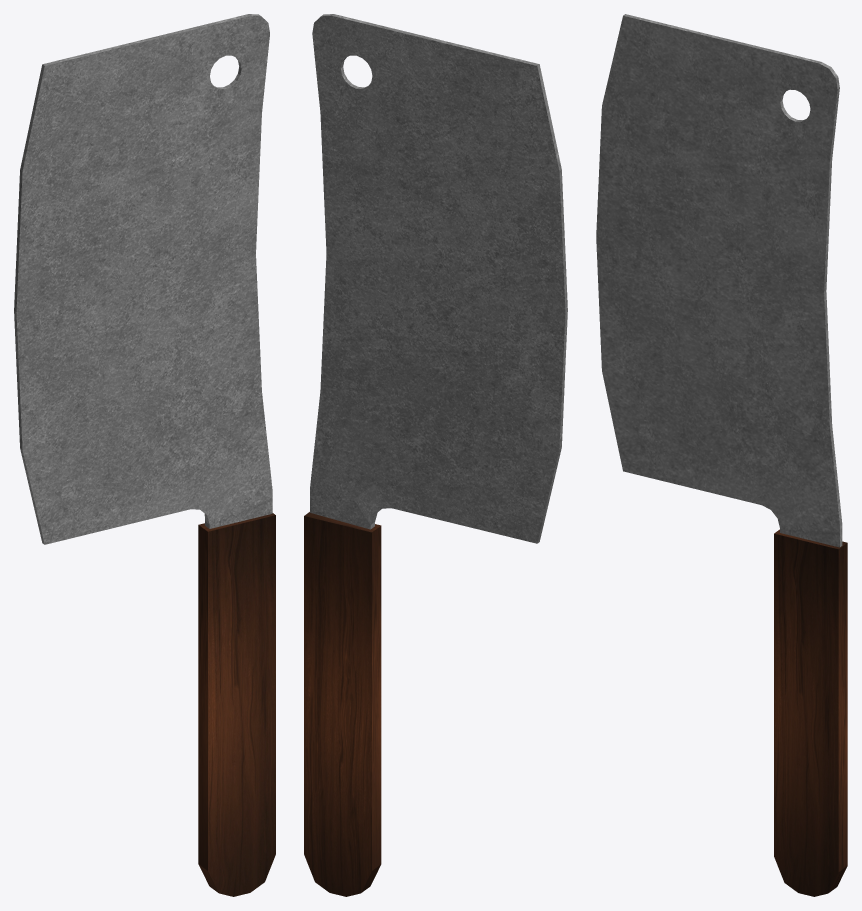
File: Butcher's Knife.fbx
3 renders of one model, left to right at view 1: azimuth 30°, elevation 25°; view 2: azimuth 150°, elevation 25°; view 3: azimuth 330°, elevation 25°, orthographic. The views are drawn at different scales.
Visible parts, largest first — view 1: Blade, Hilt; view 2: Blade, Hilt; view 3: Blade, Hilt.
Part boxes in pixels (x1,y1,x2,y2): Blade: [14, 14, 272, 544]; Hilt: [198, 513, 275, 896]; Blade: [310, 14, 567, 543]; Hilt: [304, 512, 381, 896]; Blade: [596, 14, 842, 547]; Hilt: [774, 529, 847, 896].
Size of the model in its own units: 212 by 688 by 13.62.
